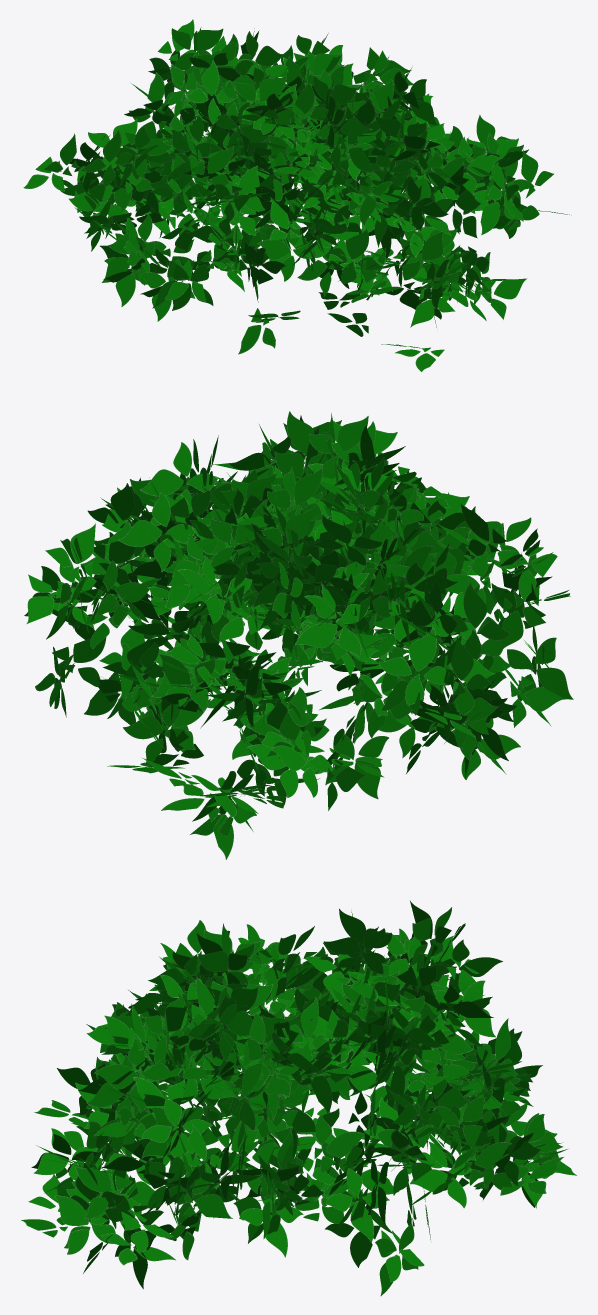
The model's file is LeafsTrunk.fbx.
3 renders of one model, top to bottom at view 1: azimuth 30°, elevation 25°; view 2: azimuth 150°, elevation 25°; view 3: azimuth 270°, elevation 25°, orthographic. The views are drawn at different scales.
Parts seen in each view (by area): view 1: Plane.001, Plane.002; view 2: Plane.001, Plane.002; view 3: Plane.001, Plane.002.
Part boxes in pixels (bbox=[...]): Plane.001: bbox=[23, 19, 528, 327]; Plane.002: bbox=[69, 56, 571, 371]; Plane.001: bbox=[24, 411, 557, 810]; Plane.002: bbox=[35, 415, 573, 859]; Plane.001: bbox=[31, 900, 576, 1257]; Plane.002: bbox=[21, 947, 563, 1296].
Size of the model in its own units: 572 by 332 by 551.
